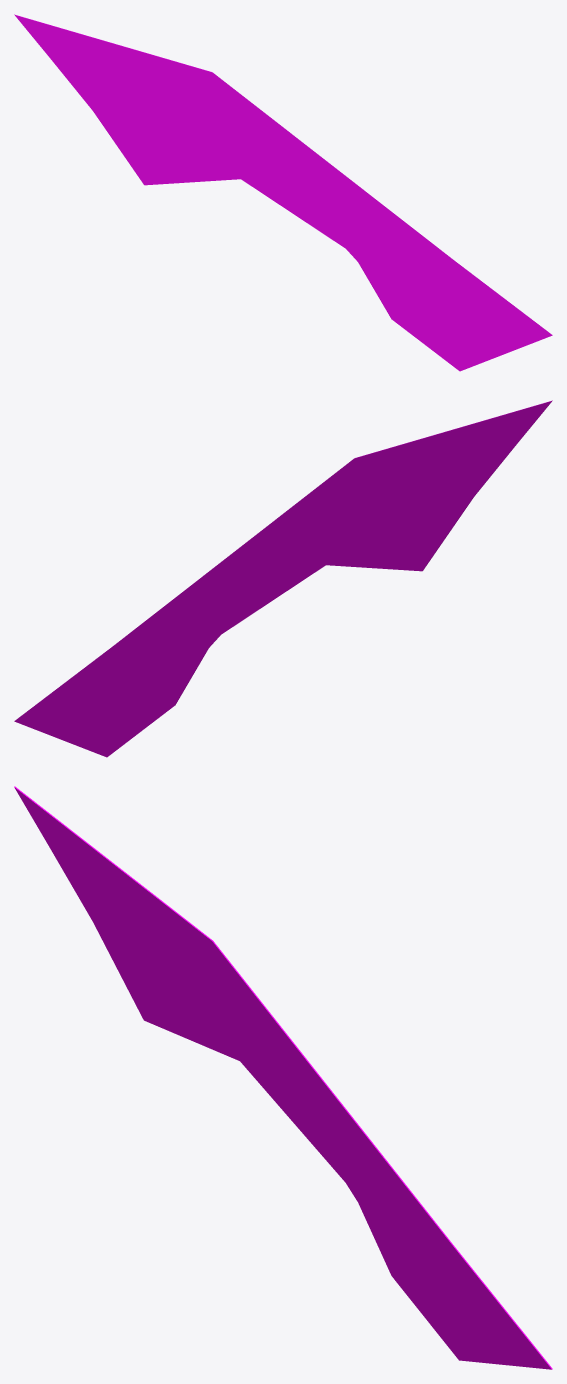
The picture shows the model from 3 angles, top to bottom: view 1: azimuth 30°, elevation 25°; view 2: azimuth 150°, elevation 25°; view 3: azimuth 330°, elevation 25°; orthographic projection.
Parts seen in each view (by area): view 1: Group__Geometry_0; view 2: Group__Geometry_0; view 3: Group__Geometry_0.
Part boxes in pixels (x1,y1,x2,y2): Group__Geometry_0: (14,14,552,371); Group__Geometry_0: (14,400,552,757); Group__Geometry_0: (14,786,552,1369).
Bounding box in the file's own units: 1755 × 1449 × 5.
